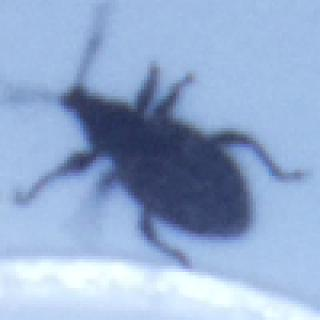bvw: (9, 6, 300, 272)
